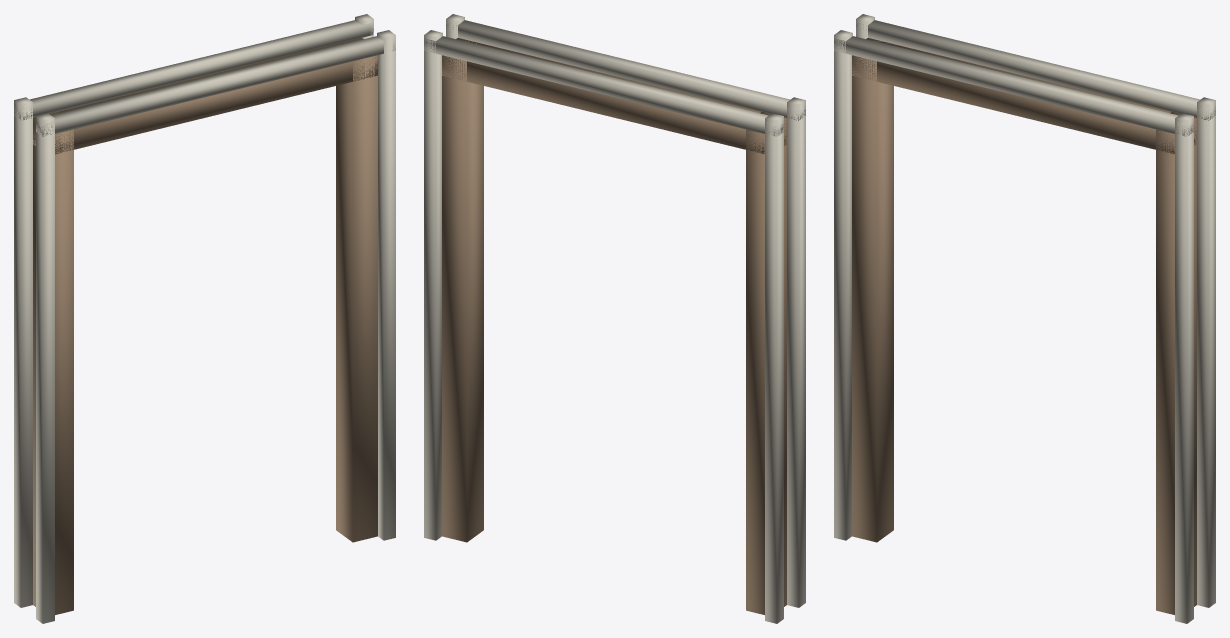
Rendered from doorway_painted_trim_w152_h240_d16.glb.
3 views of the same model, side by side, from view 1: azimuth 30°, elevation 25°; view 2: azimuth 150°, elevation 25°; view 3: azimuth 330°, elevation 25° (orthographic).
Visible parts, largest first — view 1: world; view 2: world; view 3: world.
Part boxes in pixels (bbox=[...]): world: bbox=[14, 14, 395, 623]; world: bbox=[424, 14, 805, 623]; world: bbox=[834, 14, 1215, 623].
Size of the model in its own units: 1.92 by 2.62 by 0.2716.
